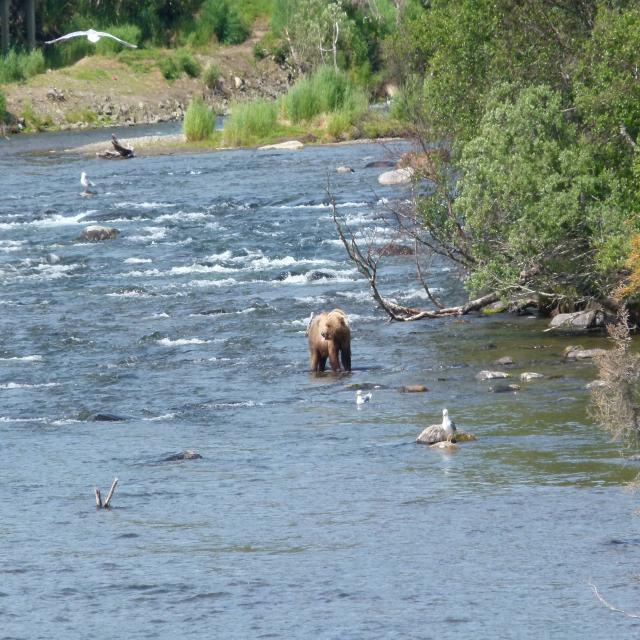bear face: (309, 313, 350, 379)
